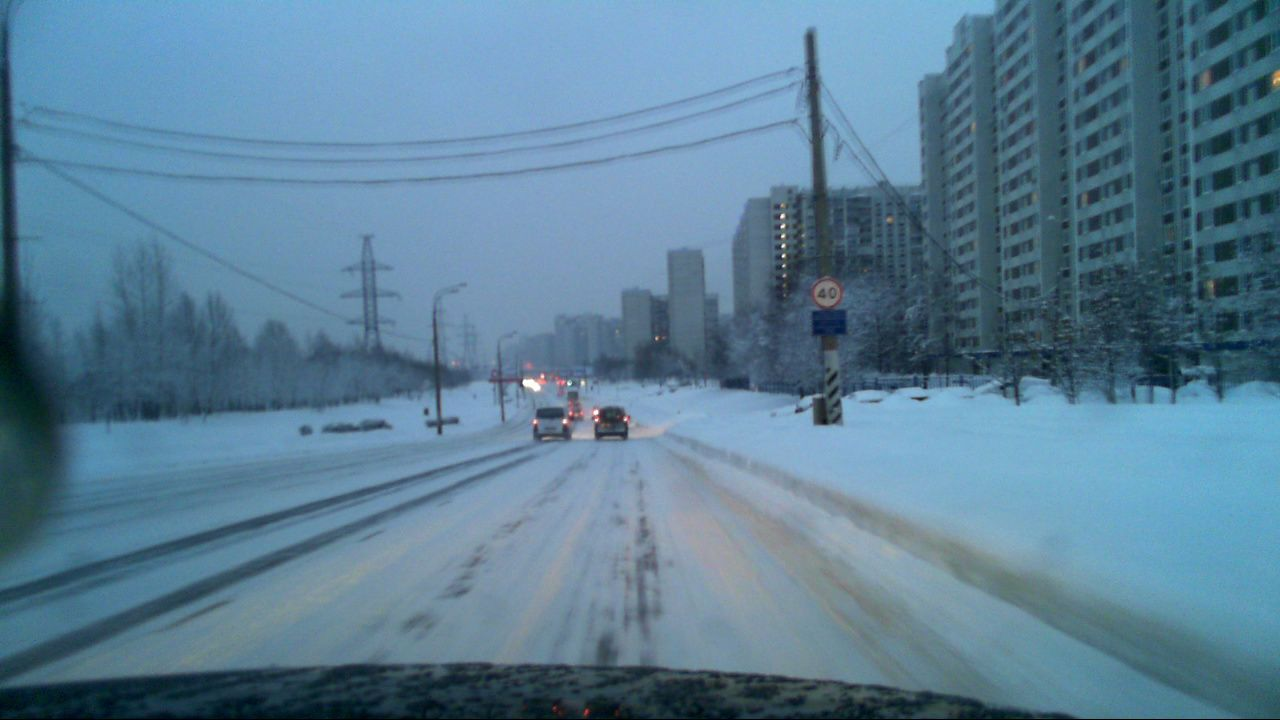speed_warning_40: (811, 275, 844, 309)
